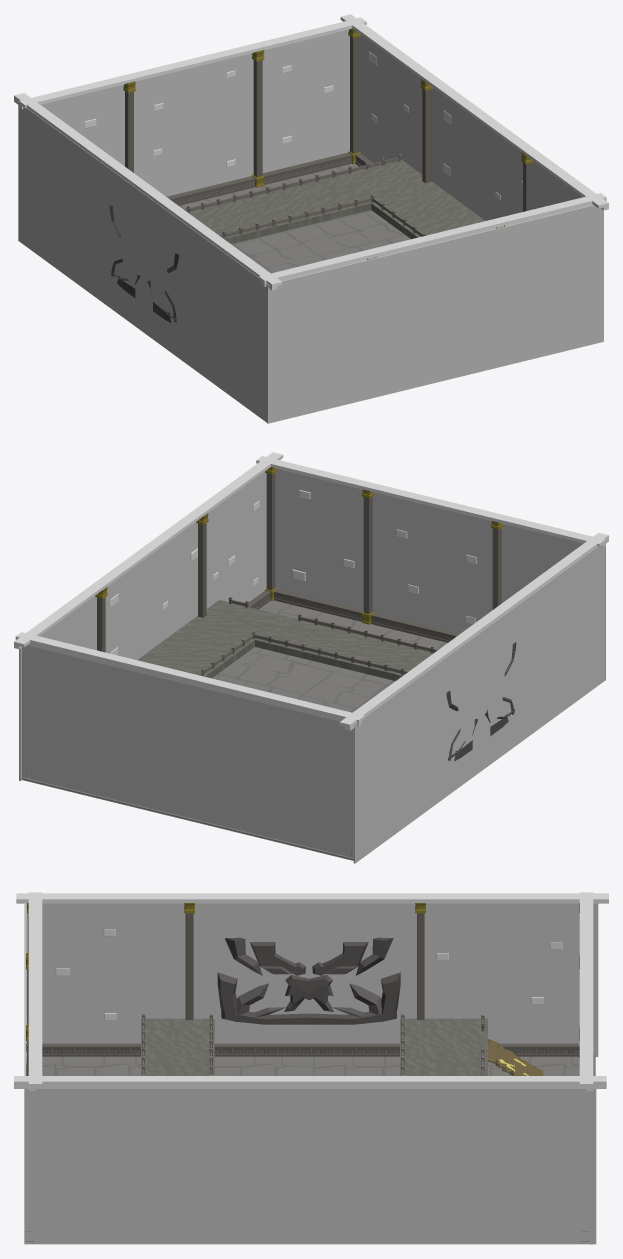
File: main04.fbx
The picture shows the model from 3 angles, top to bottom: view 1: azimuth 30°, elevation 25°; view 2: azimuth 150°, elevation 25°; view 3: azimuth 270°, elevation 25°; orthographic projection. The views are drawn at different scales.
Parts seen in each view (by area): view 1: 벽, Box102, Box101, 1, Object117, Object118, fence004, Object119, Box103; view 2: 벽, Box102, Box101, 1, Object117, Object118, fence004, Object119, Box103; view 3: 벽, Box102, Box103, Box101, 1, Object118, Object117, Object121, fence004, Object119.
Boxes of the visible parts, x1,y1,x2,y2 form: 벽: [18, 29, 603, 423]; Box102: [14, 14, 608, 290]; Box101: [189, 159, 484, 244]; 1: [179, 163, 410, 273]; Object117: [123, 28, 533, 259]; Object118: [166, 152, 373, 205]; fence004: [184, 154, 426, 238]; Object119: [84, 51, 522, 200]; Box103: [109, 204, 178, 322]; 벽: [19, 469, 605, 863]; Box102: [14, 452, 608, 730]; Box101: [137, 600, 433, 680]; 1: [21, 600, 447, 859]; Object117: [95, 467, 503, 652]; Object118: [22, 589, 459, 855]; fence004: [198, 596, 437, 676]; Object119: [110, 490, 476, 655]; Box103: [446, 642, 516, 761]; 벽: [24, 902, 598, 1244]; Box102: [14, 892, 608, 1091]; Box103: [217, 937, 400, 1024]; Box101: [141, 1018, 487, 1075]; 1: [42, 1053, 595, 1075]; Object118: [26, 1043, 589, 1241]; Object117: [26, 903, 579, 1075]; Object121: [488, 1039, 543, 1075]; fence004: [142, 1014, 484, 1075]; Object119: [26, 929, 562, 1064].
Size of the model in its own units: 3121 by 1235 by 4088.
